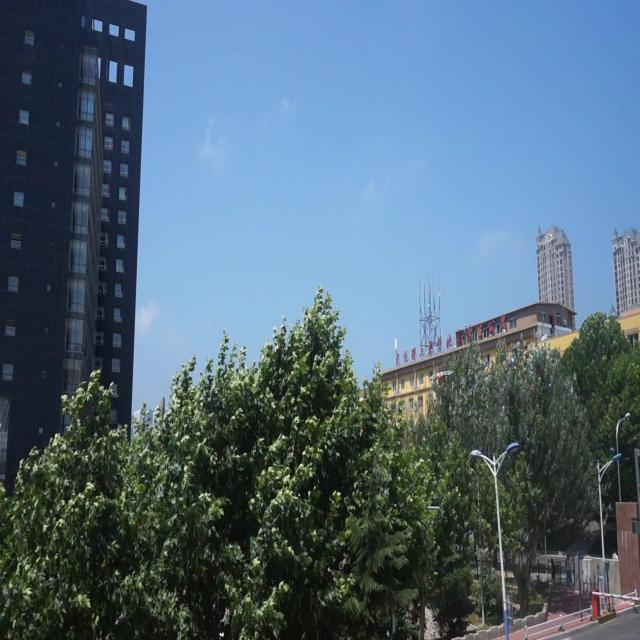UAV: (430, 370, 454, 386)
